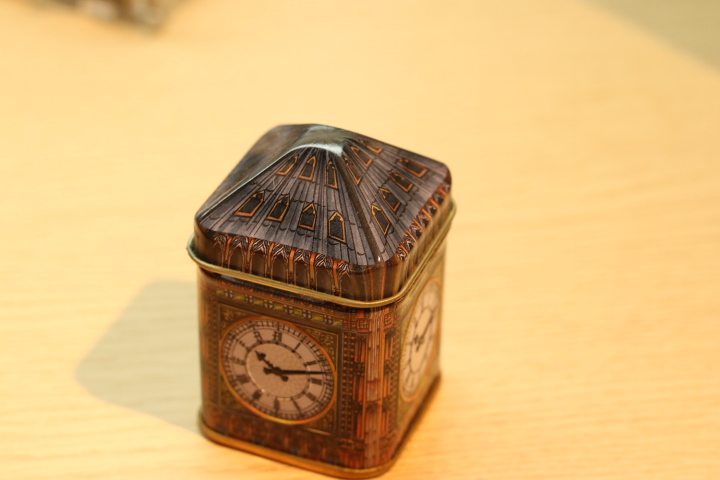Big Ben: (178, 101, 507, 480)
